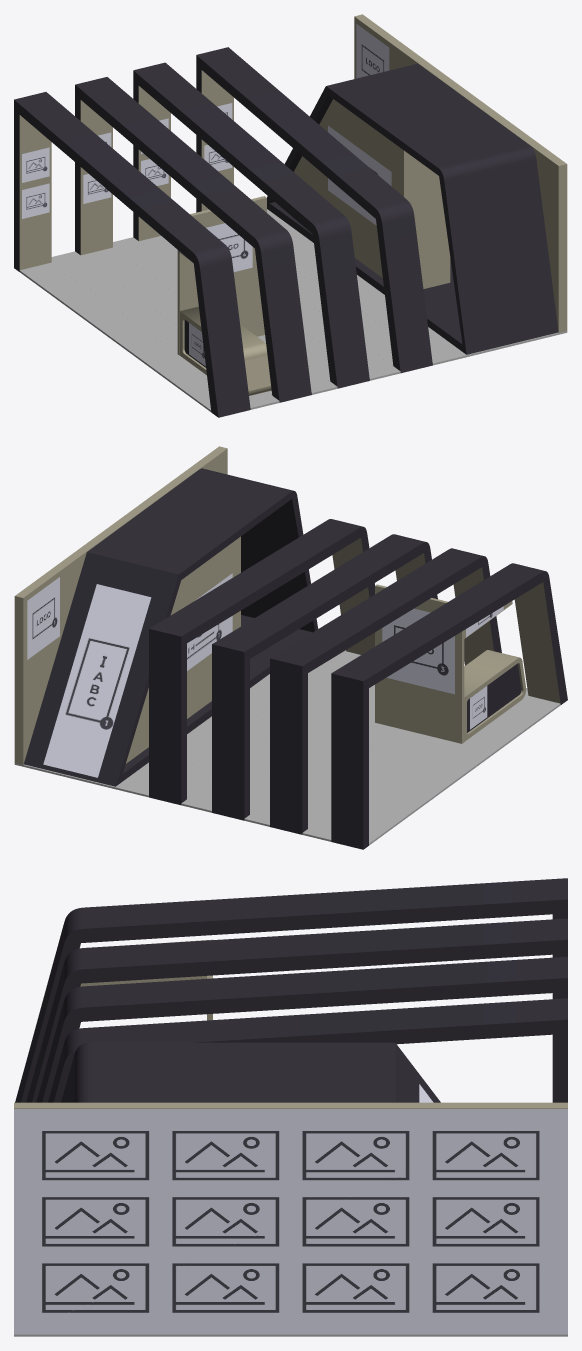
File: stant1.gltf
3 renders of one model, top to bottom at view 1: azimuth 30°, elevation 25°; view 2: azimuth 150°, elevation 25°; view 3: azimuth 270°, elevation 25°, orthographic. The views are drawn at different scales.
Visible parts, largest first — view 1: modrenk1, modrenk2, modzemin, modlogo1, modvideo1, modlogo4, modgorsel1, modgorsel2, modgorsel4; view 2: modrenk1, modrenk2, modzemin, moddikyazi1, modlogo3, modlogo1, modvideo1, modlogo2; view 3: modgenisgorsel, modrenk1, modrenk2, modzemin.
Boxes of the visible parts, x1,y1,x2,y2 form: modrenk1: (14,47,558,417); modrenk2: (19,14,567,395); modzemin: (19,209,567,411); modlogo1: (356,24,389,78); modvideo1: (328,125,391,225); modlogo4: (206,223,252,271); modgorsel1: (22,147,49,182); modgorsel2: (22,183,49,218); modgorsel4: (83,174,111,203); modrenk1: (24,468,567,849); modrenk2: (14,446,560,764); modzemin: (14,650,560,845); moddikyazi1: (43,584,151,777); modlogo3: (382,608,454,694); modlogo1: (27,577,59,659); modvideo1: (187,573,232,670); modlogo2: (470,686,487,729); modgenisgorsel: (14,1109,567,1334); modrenk1: (15,878,567,1102); modrenk2: (14,939,567,1108); modzemin: (14,1334,567,1336).
Size of what is drawn, in the model's own units: 0.9863 by 0.4551 by 1.
Materials: 20 (17 with a texture image).
